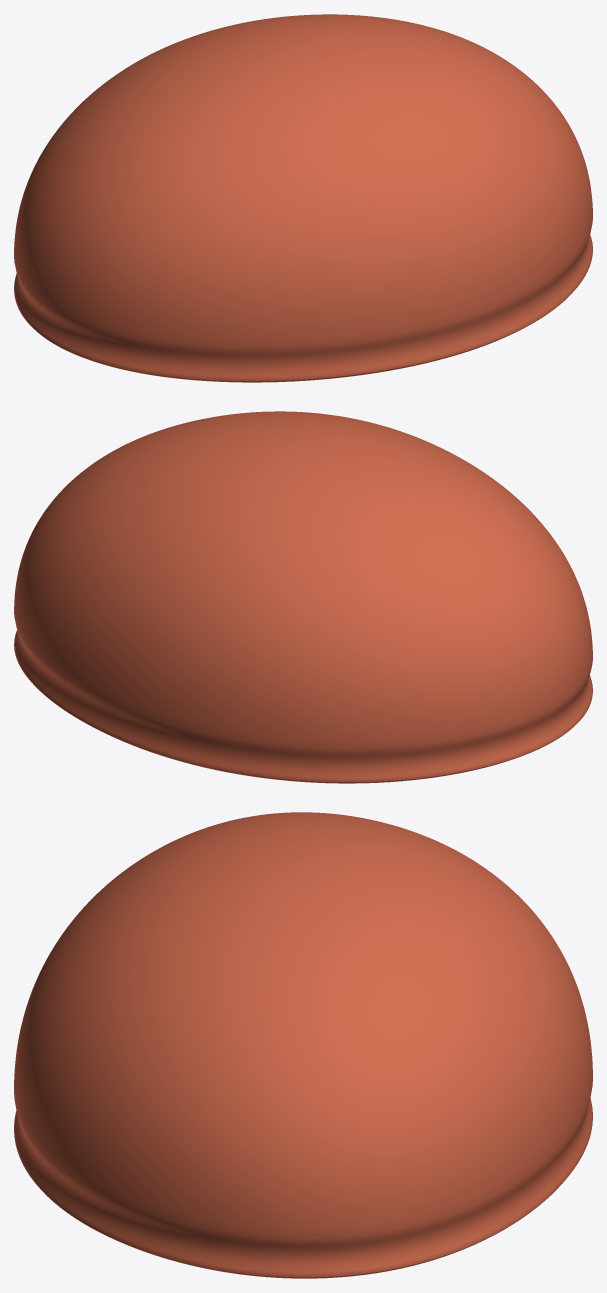
Rendered from moonstone.glb.
The picture shows the model from 3 angles, top to bottom: view 1: azimuth 30°, elevation 25°; view 2: azimuth 150°, elevation 25°; view 3: azimuth 270°, elevation 25°; orthographic projection. The views are drawn at different scales.
Visible parts, largest first — view 1: stone; view 2: stone; view 3: stone.
Part boxes in pixels (bbox=[...]): stone: bbox=[14, 14, 592, 382]; stone: bbox=[14, 411, 592, 783]; stone: bbox=[14, 812, 592, 1278].
Size of the model in its own units: 1.11 by 0.504 by 0.9011.
